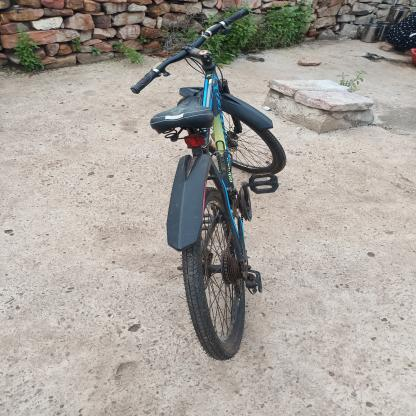bike: (118, 4, 290, 362)
